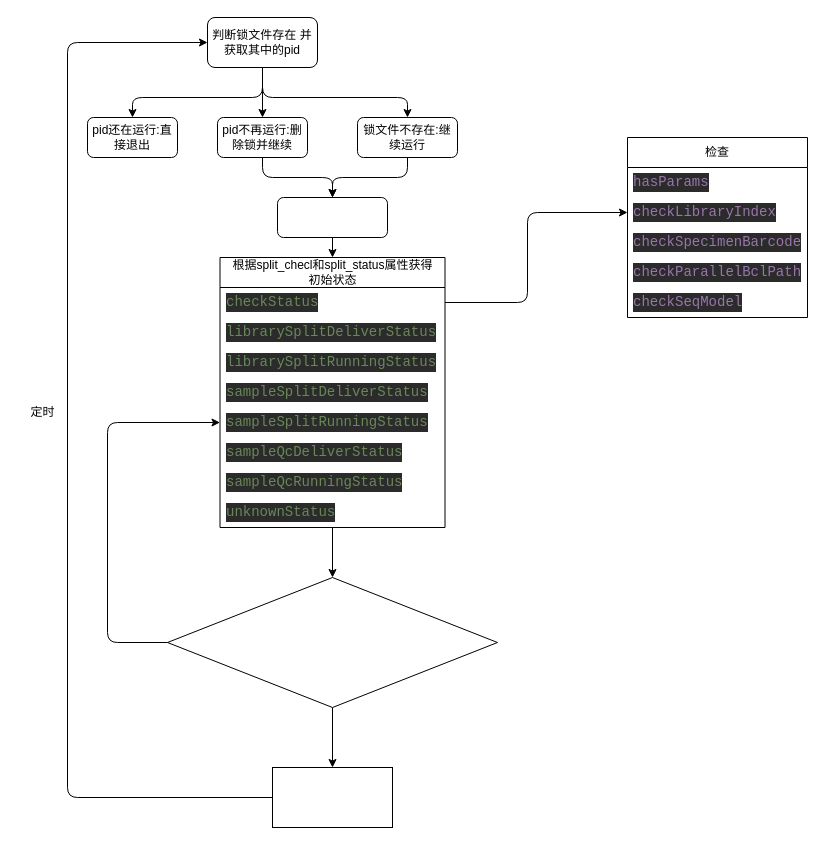
Image size: 825x845. Some labels were removed from this diagram. Each missing label, with the centre of its shape:
判断是否为 waitProcessedStatus failedProcessedStatus successProcessedStatus: point (332, 642)
筛选出status为no和start的任务: point (332, 217)
结束: point (332, 797)
